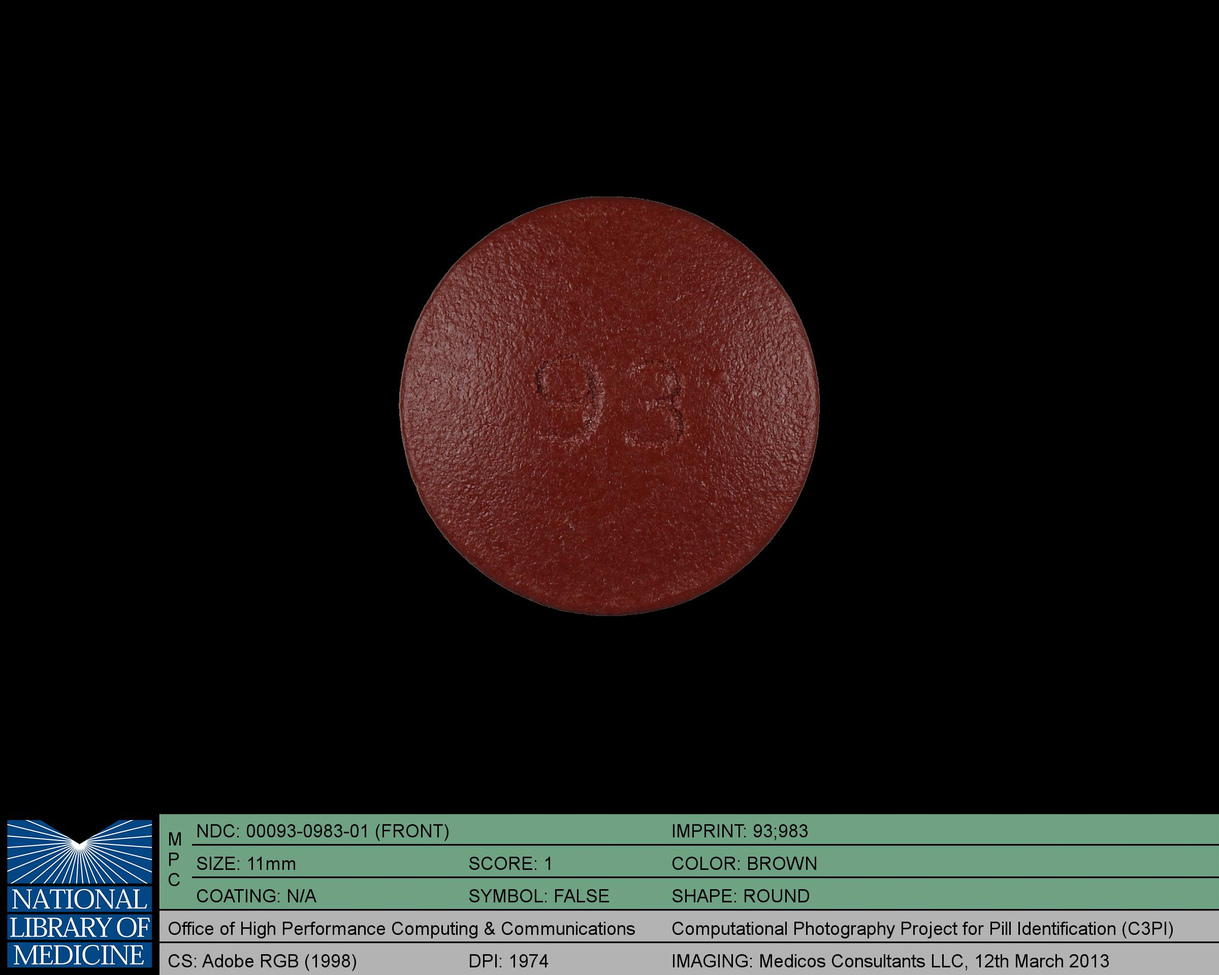Pill: (388, 185, 833, 630)
